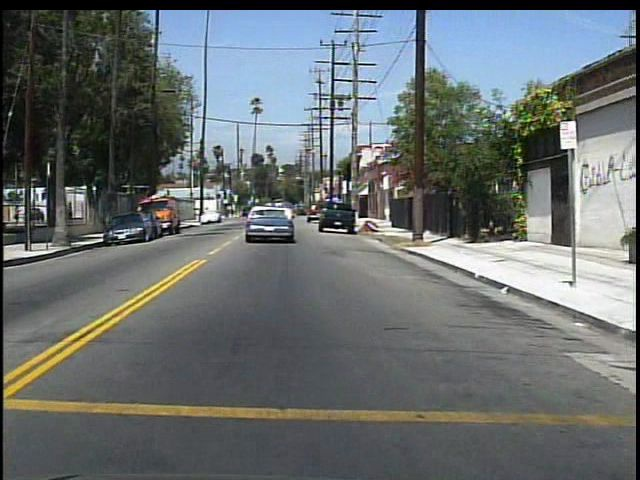person: (68, 198, 77, 225)
